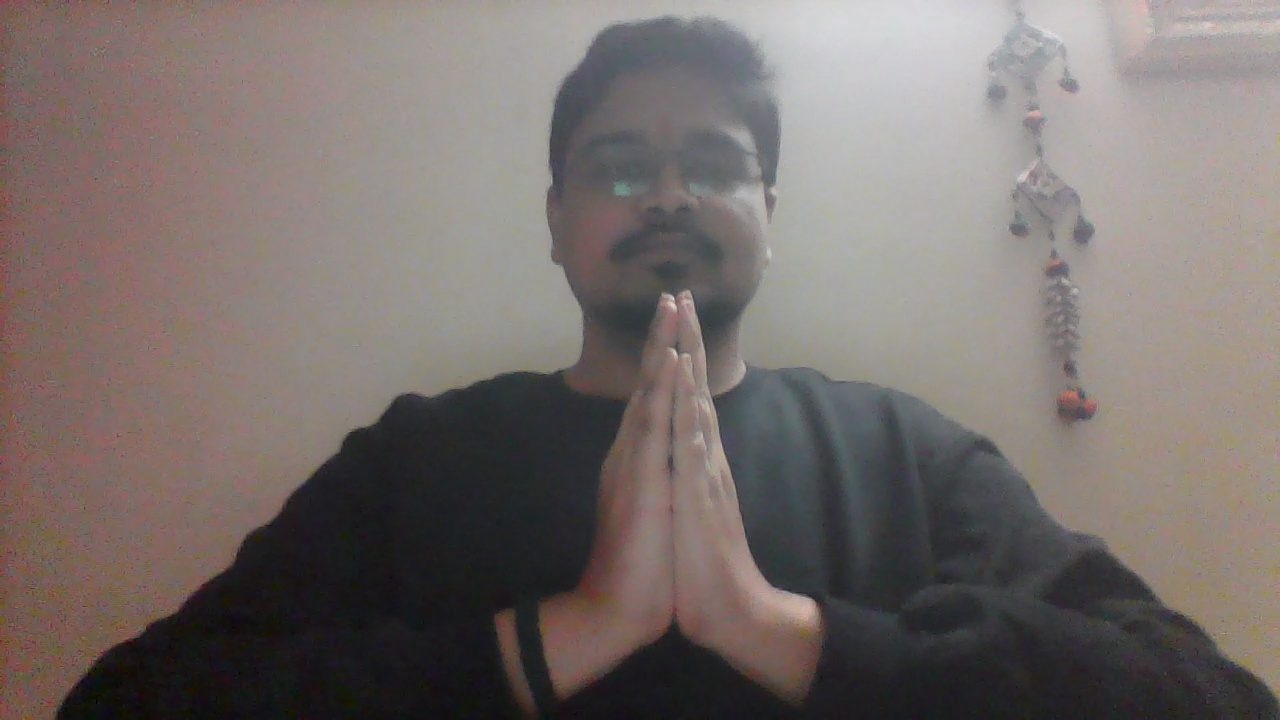Namaste: (588, 289, 759, 645)
